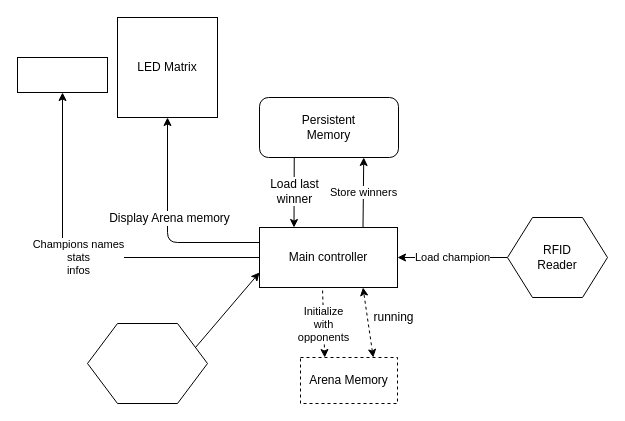
Image size: 625x421. Some labels were removed from this diagram. The centre of each missing label's shape, as x and y in pixels:
"Buttons/Controls; (pause/mode/infos)" goes at (x=147, y=363).
"Text display" goes at (x=62, y=74).
